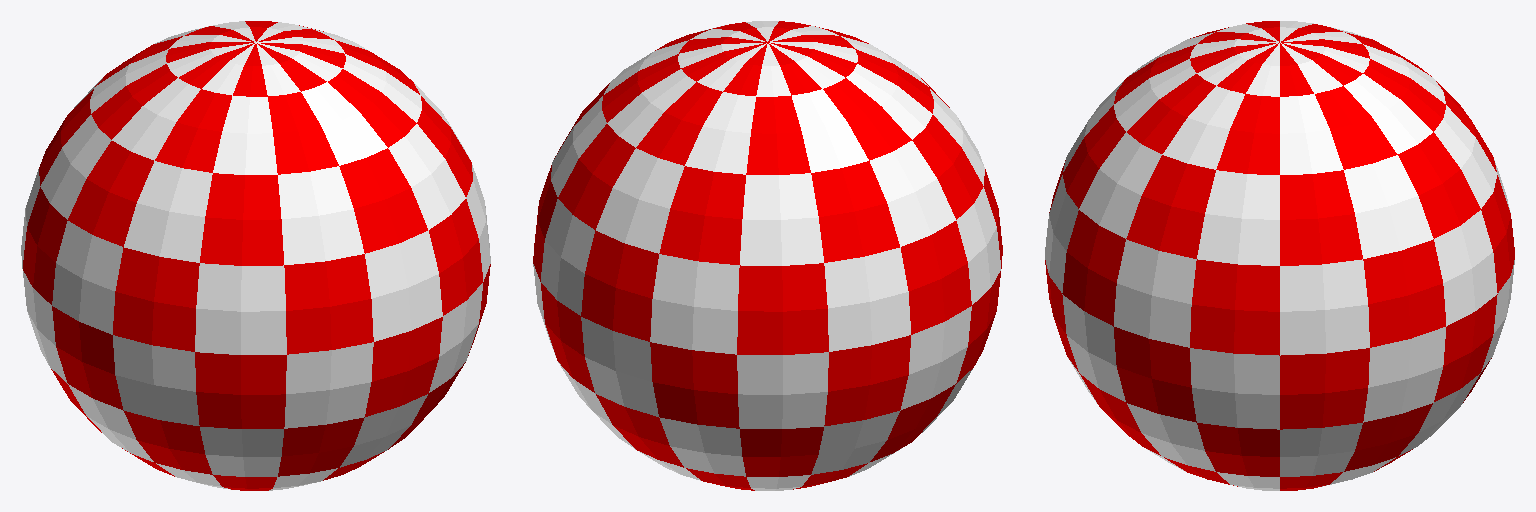
The model's file is ball.obj.
3 renders of one model, left to right at view 1: azimuth 30°, elevation 25°; view 2: azimuth 150°, elevation 25°; view 3: azimuth 270°, elevation 25°, orthographic.
Parts seen in each view (by area): view 1: sphere2; view 2: sphere2; view 3: sphere2.
Boxes of the visible parts, x1,y1,x2,y2 form: sphere2: [21, 21, 490, 490]; sphere2: [533, 21, 1002, 490]; sphere2: [1045, 21, 1514, 490].
Bounding box in the file's own units: 2 × 2 × 2.